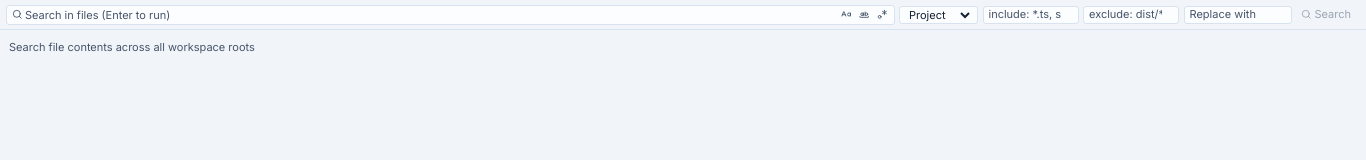
Scenario: ED-FIND-003: scope planning in FindInFilesPanel › shows the scope selector and fails module scope closed without facts (A1/A3)
Select "Module" in the dropdown named "Search scope" at (939, 14), box [905,6,973,22]
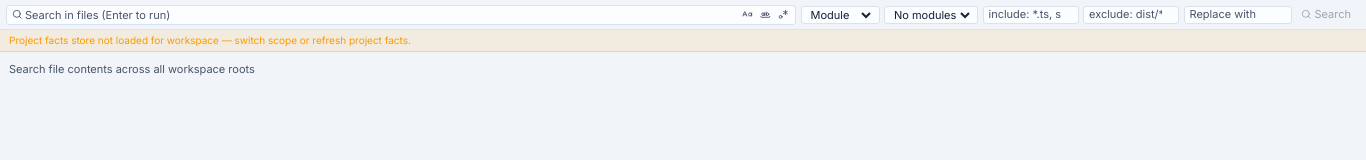
Expected: the text with test id "code-workspace-find-scope-notice" is shown, [0,30,1365,52]
